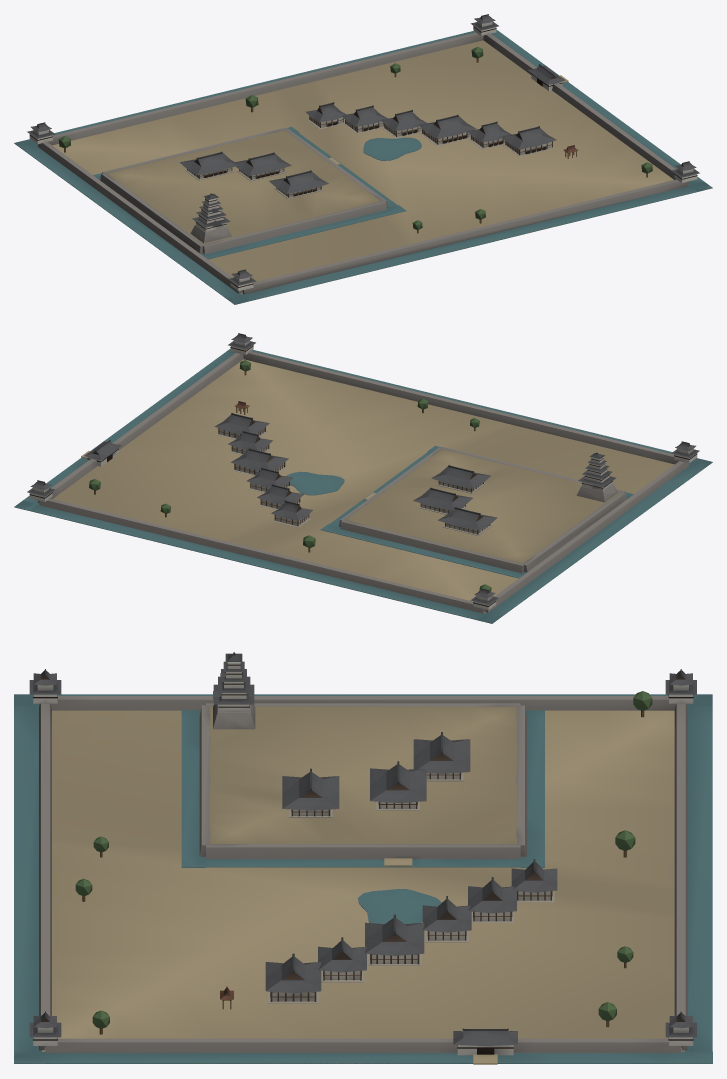
The model's file is nijo-castle.glb.
3 renders of one model, top to bottom at view 1: azimuth 30°, elevation 25°; view 2: azimuth 150°, elevation 25°; view 3: azimuth 270°, elevation 25°, orthographic. The views are drawn at different scales.
Parts seen in each view (by area): view 1: p0_grounds, p2_keep, p1_halls; view 2: p0_grounds, p2_keep, p1_halls; view 3: p0_grounds, p2_keep, p1_halls.
Boxes of the visible parts, <box> form: p0_grounds: <box>14,29,712,304</box>; p2_keep: <box>27,14,699,291</box>; p1_halls: <box>185,73,578,293</box>; p0_grounds: <box>14,348,712,623</box>; p2_keep: <box>27,333,699,610</box>; p1_halls: <box>87,401,491,612</box>; p0_grounds: <box>14,694,712,1064</box>; p2_keep: <box>29,652,696,1045</box>; p1_halls: <box>44,772,682,1055</box>.
Size of the model in its own units: 501 by 49.25 by 400.
